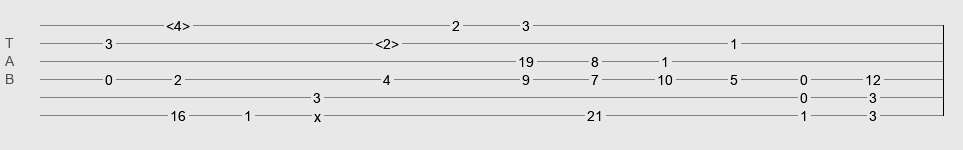0: (105, 72, 113, 82), (800, 72, 808, 82), (800, 90, 808, 100)
1: (244, 108, 252, 118), (661, 54, 669, 64), (730, 36, 738, 46), (800, 108, 808, 118)
10: (657, 72, 673, 82)
12: (865, 72, 881, 82)
16: (170, 108, 186, 118)
19: (518, 54, 534, 64)
2: (174, 72, 182, 82), (452, 18, 460, 28)
21: (587, 108, 603, 118)
3: (105, 36, 113, 46), (313, 90, 321, 100), (522, 18, 530, 28), (869, 108, 877, 118), (869, 90, 877, 100)
4: (383, 72, 391, 82)
5: (730, 72, 738, 82)
7: (591, 72, 599, 82)
8: (591, 54, 599, 64)
9: (522, 72, 530, 82)
harmonic: (166, 18, 190, 28), (375, 36, 399, 46)
x: (314, 109, 321, 117)
